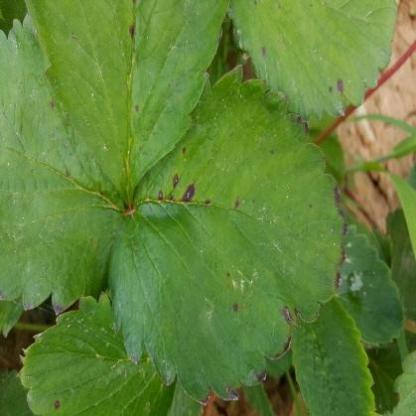Strawberry_Leaf_Spot: (107, 64, 350, 406), (23, 0, 230, 210), (227, 0, 399, 122), (16, 290, 178, 416)
